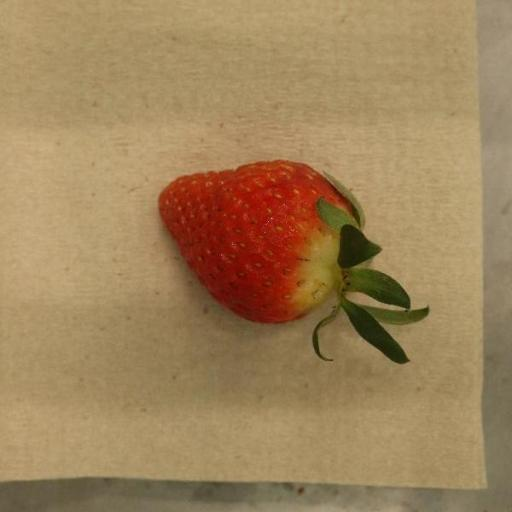Strawberry: (158, 160, 430, 365)
